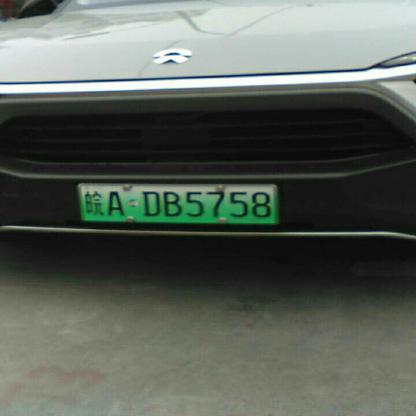lp: (77, 184, 278, 222)
